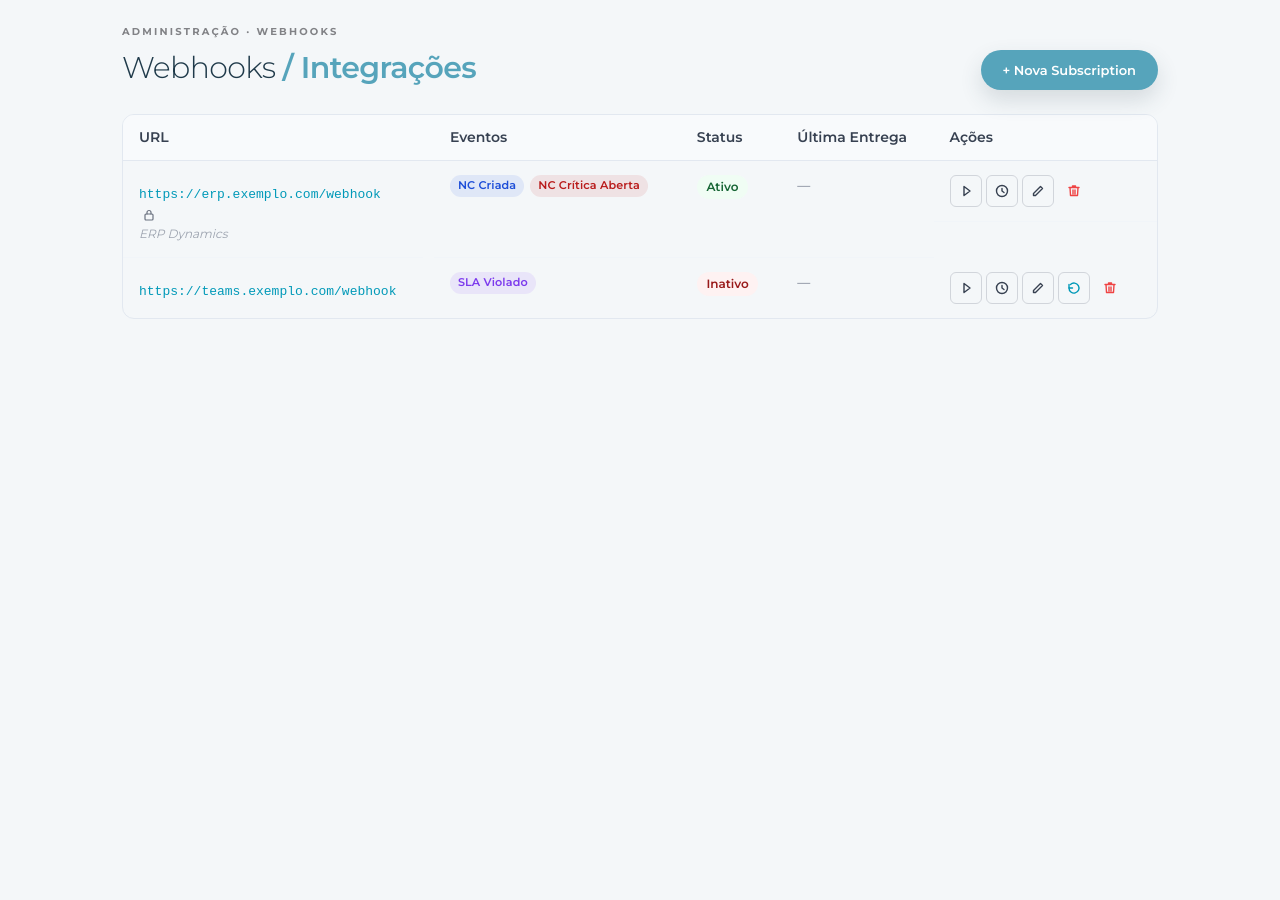
Test: WebhooksComponent › Spec 3 — botão Nova Subscription abre dialog › should show dialog when btn-new-webhook is clicked
Click the button with test id "btn-new-webhook" at [1069, 70], box [980,50,1158,90]
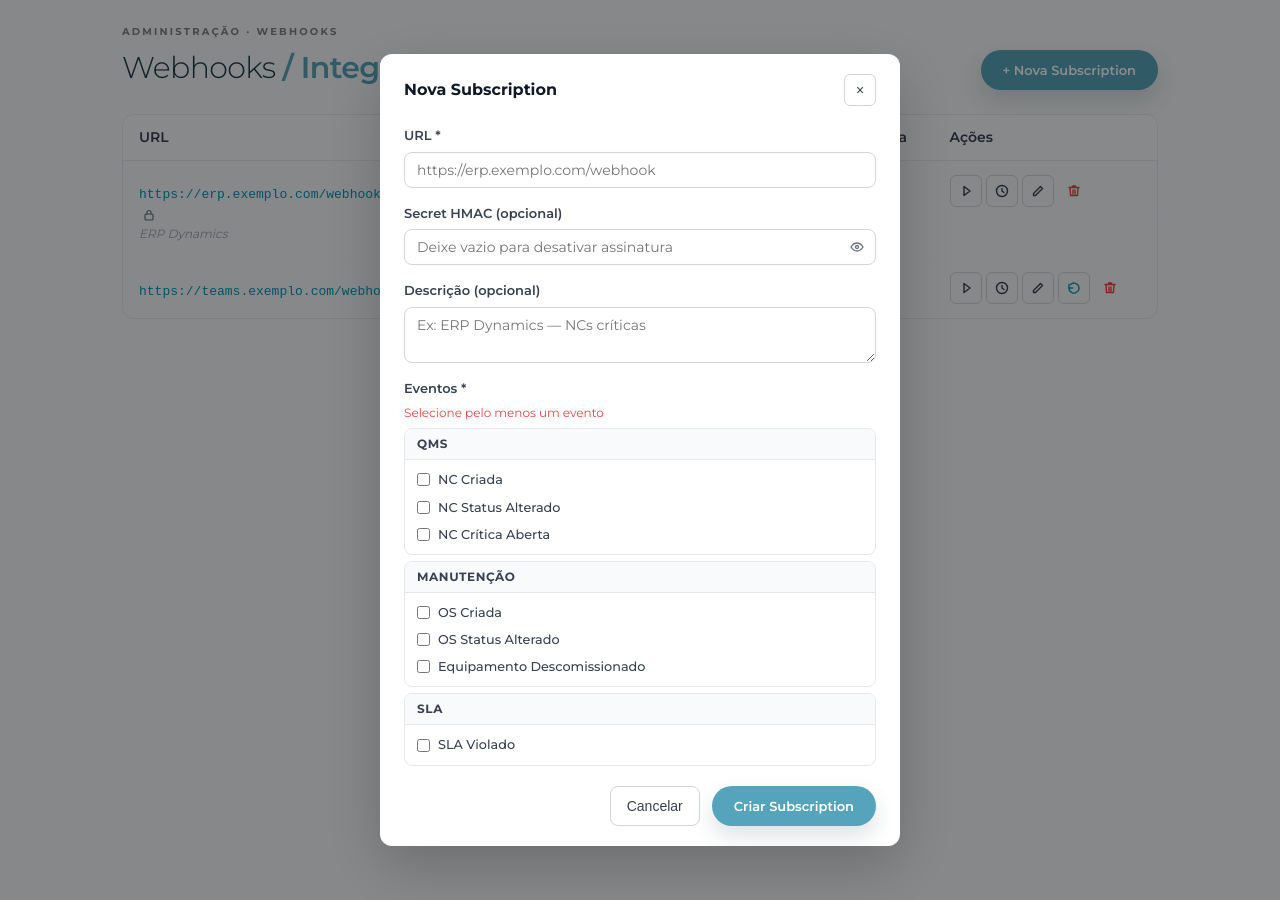
Check: the dialog with test id "webhook-dialog" is shown, box [380,54,900,846]
